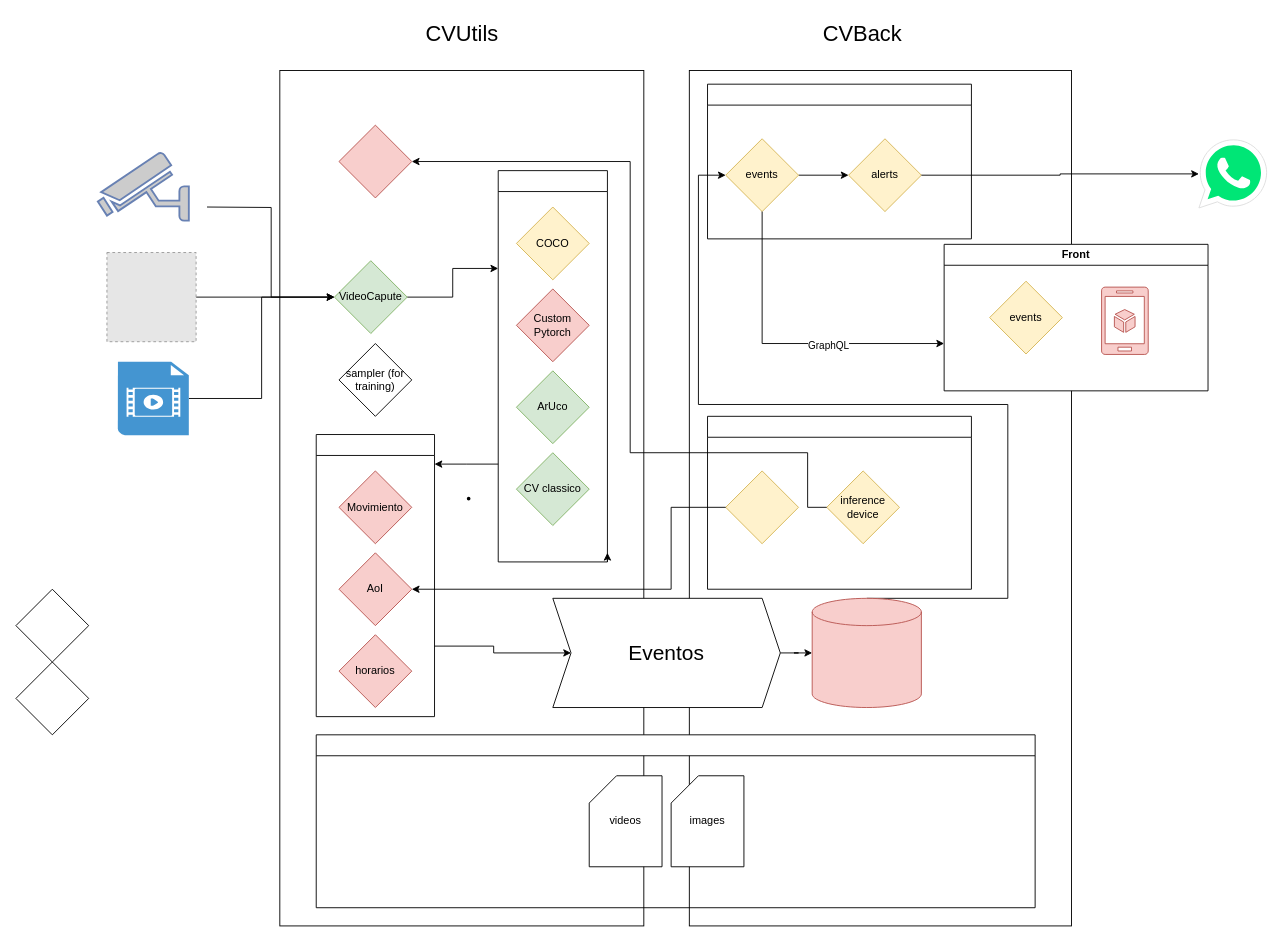
The diagram is 1283 pixels wide and 942 high, and some of its shapes have lost their labels. Grey dashed boxes stand in for pictures. Here are the shapes that lost their labels. From the top down, the box of each, then its label:
(338, 124, 412, 198): setup loop
(707, 83, 971, 239): events app
(497, 170, 607, 562): Inferencias
(725, 470, 799, 544): cameras
(707, 415, 971, 589): devices app
(315, 434, 435, 717): Reglas de negocio
(811, 597, 921, 708): MQTT
(315, 734, 1035, 908): storage
